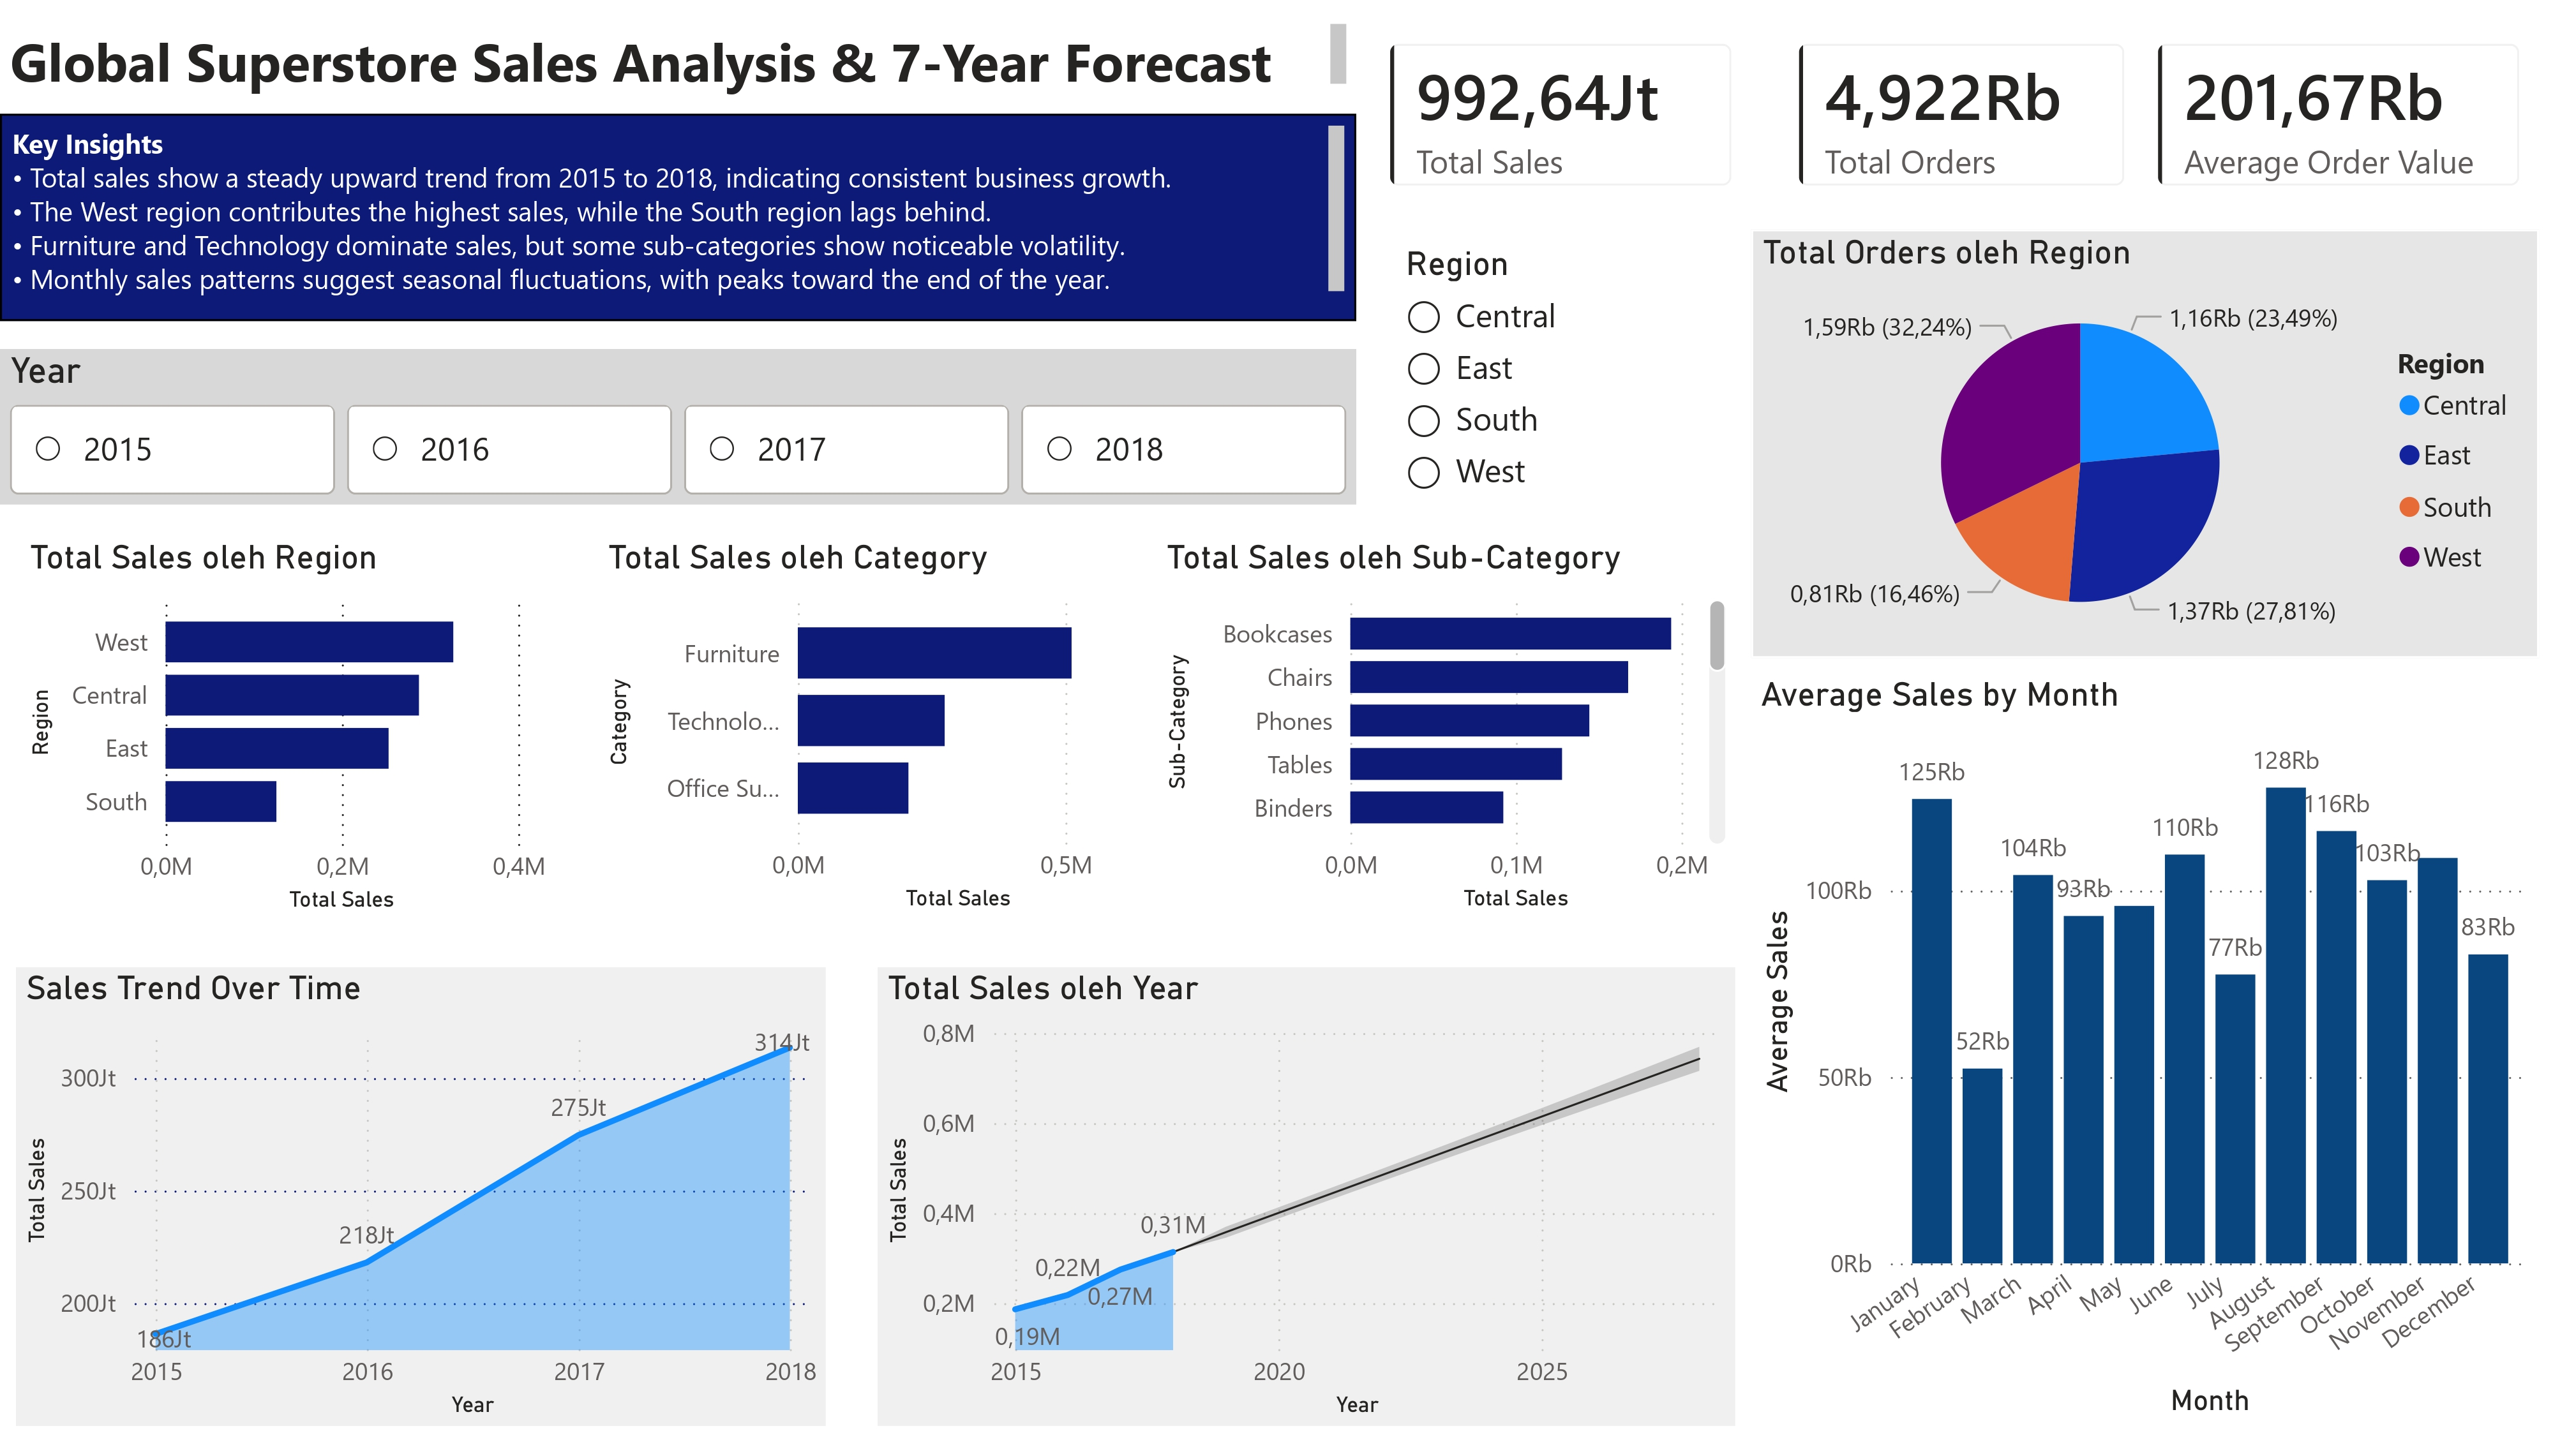

This screenshot's page, from the dashboard's own definition file:
{"tool":"powerbi","page":{"name":"Page 1","canvas":[1280,720],"ordinal":0},"visuals":[{"type":"lineChart","title":"Sales Trend Over Time","fields":{"Y":["Superstore_Sales.Total Sales"],"Category":["Superstore_Sales.Order Date.Variation.Date Hierarchy.Year","Superstore_Sales.Order Date.Variation.Date Hierarchy.Month","Superstore_Sales.Order Date.Variation.Date Hierarchy.Day"]},"box":[8,480,406,230],"z":0},{"type":"listSlicer","fields":{"Values":["Superstore_Sales.Region"]},"box":[700,116.7,113.3,240],"z":1000},{"type":"barChart","fields":{"Category":["Superstore_Sales.Region"],"Y":["Superstore_Sales.Total Sales"]},"box":[9.7,263.9,268.8,192.7],"z":2000},{"type":"barChart","fields":{"Y":["Superstore_Sales.Total Sales"],"Category":["Superstore_Sales.Category"]},"box":[300,264,280,192],"z":3000},{"type":"barChart","fields":{"Y":["Superstore_Sales.Total Sales"],"Category":["Superstore_Sales.Sub-Category"]},"box":[580,264,290,192],"z":4000},{"type":"cardVisual","fields":{"Data":["Superstore_Sales.Total Sales"]},"box":[680,0,205,105],"z":5000},{"type":"cardVisual","fields":{"Data":["Superstore_Sales.Total Orders"]},"box":[885,0,197.5,105],"z":6000},{"type":"cardVisual","fields":{"Data":["Superstore_Sales.Average Order Value"]},"box":[1065,0,215,105],"z":7000},{"type":"lineChart","fields":{"Category":["Superstore_Sales.Order Date.Variation.Date Hierarchy.Year","Superstore_Sales.Order Date.Variation.Date Hierarchy.Month","Superstore_Sales.Order Date.Variation.Date Hierarchy.Day"],"Y":["Superstore_Sales.Total Sales"]},"box":[440,480,430,230],"z":8000},{"type":"columnChart","title":"Average Sales by Month","fields":{"Y":["Superstore_Sales.Average Sales"],"Category":["Superstore_Sales.Month Name"]},"box":[877.5,332.5,395,377],"z":9000},{"type":"advancedSlicerVisual","fields":{"Values":["Superstore_Sales.Year"]},"box":[0,170,680,78],"z":10000},{"type":"pieChart","fields":{"Y":["Superstore_Sales.Total Orders"],"Category":["Superstore_Sales.Region","Superstore_Sales.Order Date.Variation.Date Hierarchy.Year","Superstore_Sales.Order Date.Variation.Date Hierarchy.Quarter","Superstore_Sales.Order Date.Variation.Date Hierarchy.Month","Superstore_Sales.Order Date.Variation.Date Hierarchy.Day"]},"box":[877.5,110,395,215],"z":11000},{"type":"textbox","box":[0,52,680,104],"z":12000},{"type":"textbox","box":[0,2,680,50],"z":13000}]}

Visuals, with their boxes in screenshot pixels (x1, y1, x2, y2), scaled from the page's 1280x720 canvas onto the 2553x1456 screenshot:
"Sales Trend Over Time" lineChart: BBox(16, 970, 826, 1436)
listSlicer - Superstore_Sales.Region: BBox(1396, 236, 1622, 722)
barChart - Superstore_Sales.Region x Superstore_Sales.Total Sales: BBox(19, 533, 555, 923)
barChart - Superstore_Sales.Total Sales x Superstore_Sales.Category: BBox(599, 534, 1157, 922)
barChart - Superstore_Sales.Total Sales x Superstore_Sales.Sub-Category: BBox(1157, 534, 1735, 922)
cardVisual - Superstore_Sales.Total Sales: BBox(1356, 0, 1765, 212)
cardVisual - Superstore_Sales.Total Orders: BBox(1765, 0, 2159, 212)
cardVisual - Superstore_Sales.Average Order Value: BBox(2124, 0, 2552, 212)
lineChart - Superstore_Sales.Order Date.Variation.Date Hierarchy.Year x Superstore_Sales.Order Date.Variation.Date Hierarchy.Month: BBox(878, 970, 1735, 1436)
"Average Sales by Month" columnChart: BBox(1750, 672, 2538, 1435)
advancedSlicerVisual - Superstore_Sales.Year: BBox(0, 344, 1356, 501)
pieChart - Superstore_Sales.Total Orders x Superstore_Sales.Region: BBox(1750, 223, 2538, 657)
textbox: BBox(0, 105, 1356, 315)
textbox: BBox(0, 4, 1356, 105)
